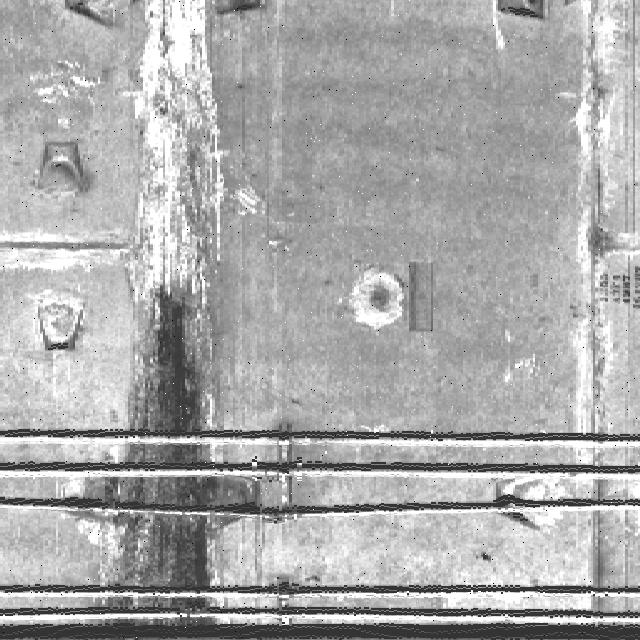leakage: (66, 0, 264, 639)
